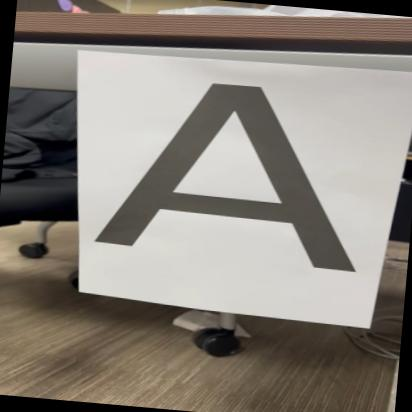seat: (75, 64, 396, 282)
